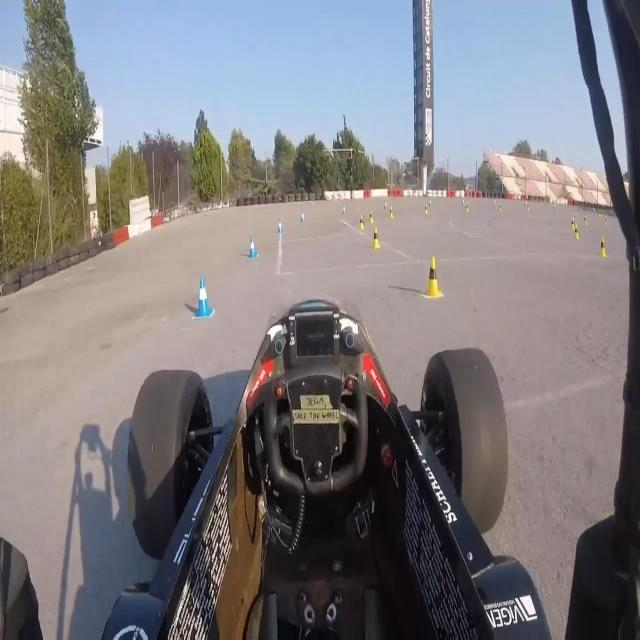blue_cone: (190, 276, 214, 320), (248, 234, 258, 264), (276, 216, 284, 238), (300, 210, 306, 224), (341, 202, 347, 216), (493, 197, 496, 207), (384, 201, 387, 210), (429, 198, 432, 207), (462, 198, 464, 206)
yellow_cone: (422, 252, 443, 302), (372, 224, 381, 254), (598, 233, 608, 259), (572, 223, 580, 241), (388, 204, 396, 219), (368, 208, 375, 224), (359, 213, 364, 232), (570, 215, 575, 231), (583, 213, 587, 226), (424, 203, 428, 214), (498, 204, 502, 214), (466, 203, 468, 213)
